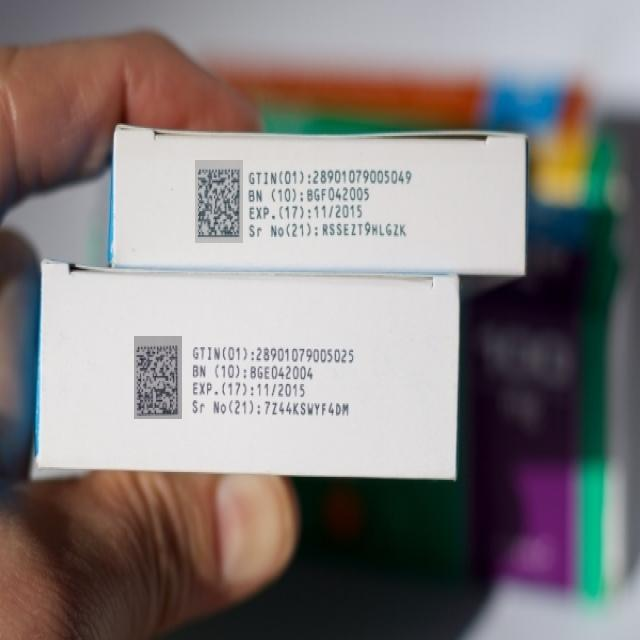DataMatrix: (195, 160, 243, 243), (135, 336, 183, 419)
